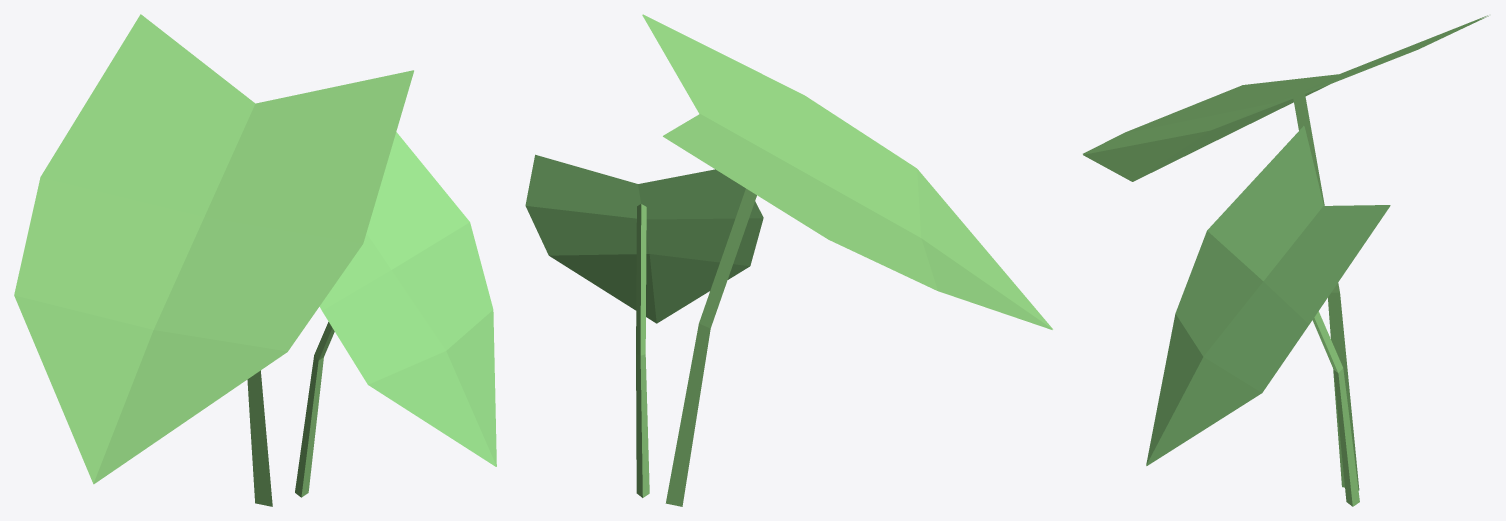
Rendered from Plant_c_TwoS_02.fbx.
3 views of the same model, side by side, from view 1: azimuth 30°, elevation 25°; view 2: azimuth 150°, elevation 25°; view 3: azimuth 270°, elevation 25° (orthographic). The views are drawn at different scales.
Parts seen in each view (by area): view 1: Plant_c_TwoS_02; view 2: Plant_c_TwoS_02; view 3: Plant_c_TwoS_02.
Part boxes in pixels (box(x1,y1,x2,y2)): Plant_c_TwoS_02: box(14, 14, 496, 506); Plant_c_TwoS_02: box(525, 14, 1052, 506); Plant_c_TwoS_02: box(1083, 15, 1488, 506).
Size of the model in its own units: 56.1 by 51.93 by 43.2.
